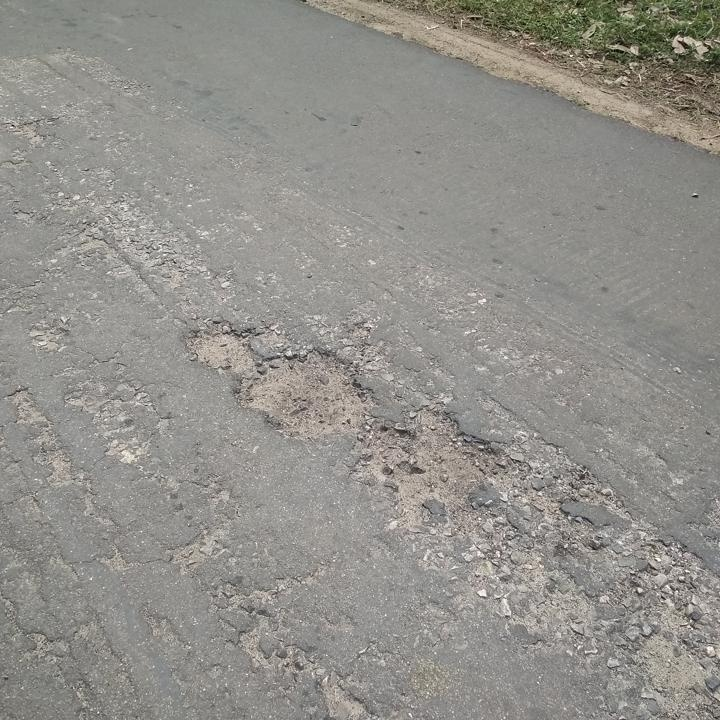pothole: (355, 397, 516, 522), (235, 343, 383, 441), (180, 319, 261, 375)
